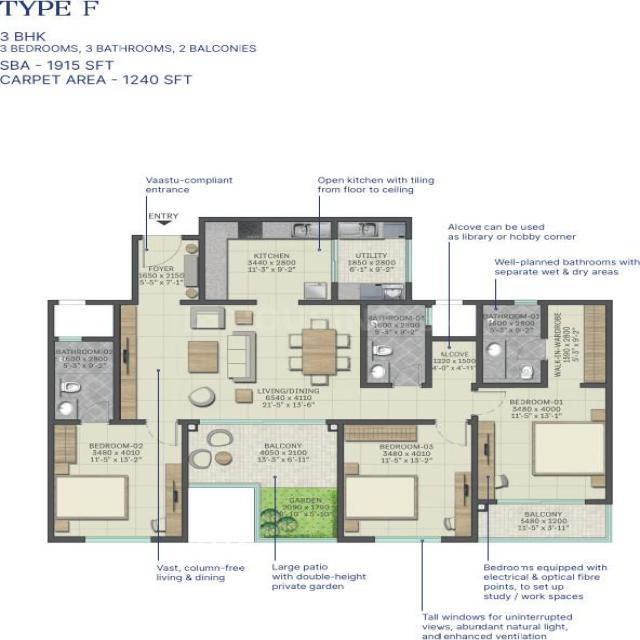Balcony-Sitout: (188, 422, 343, 486)
Bedroom: (340, 423, 472, 539)
Bedroom with Toilet: (49, 339, 186, 540), (478, 301, 610, 501)
Dining: (286, 315, 355, 388)
Dress: (547, 302, 607, 385)
Enterance-Foyer: (140, 211, 189, 272)
Kitchen: (202, 218, 336, 301)
Living: (118, 302, 259, 421)
Toilet: (366, 302, 429, 385), (481, 304, 544, 387), (53, 342, 116, 420)
Utility: (336, 220, 411, 300)
